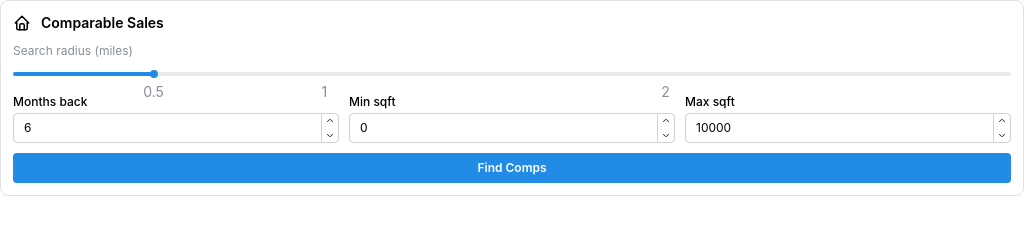
Test: CompsPanel › uses the months the form was changed to in that line
The image size is (1024, 240).
Replace the text in the field labelled "Months back" with "12": (176, 128) x1=13 y1=113 x2=339 y2=143
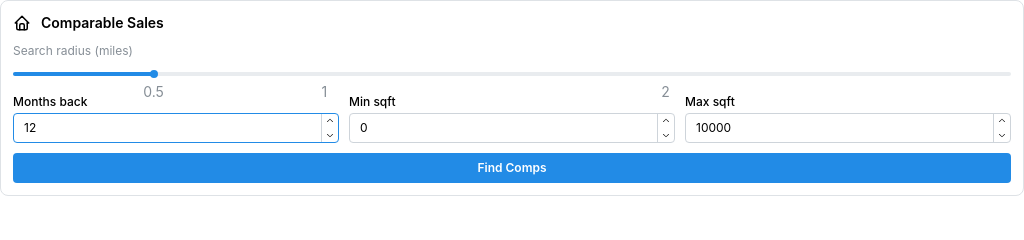
Click the button "Find Comps": (512, 168) x1=13 y1=153 x2=1011 y2=183
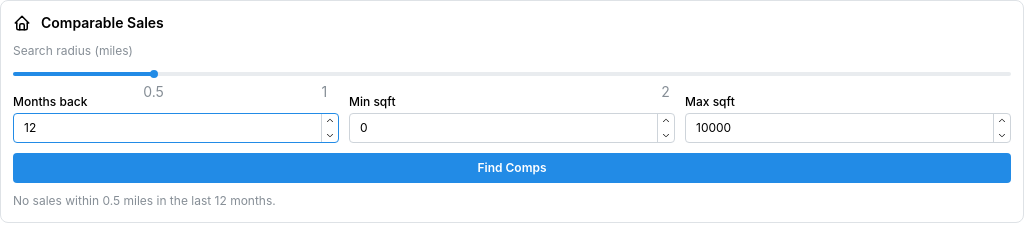
Result: the text "No sales within 0.5 miles in the last 12 months." is shown at x1=13 y1=193 x2=276 y2=208
